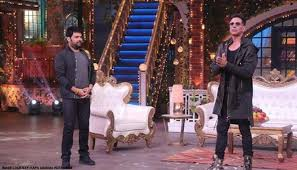Good: (54, 18, 259, 170)
